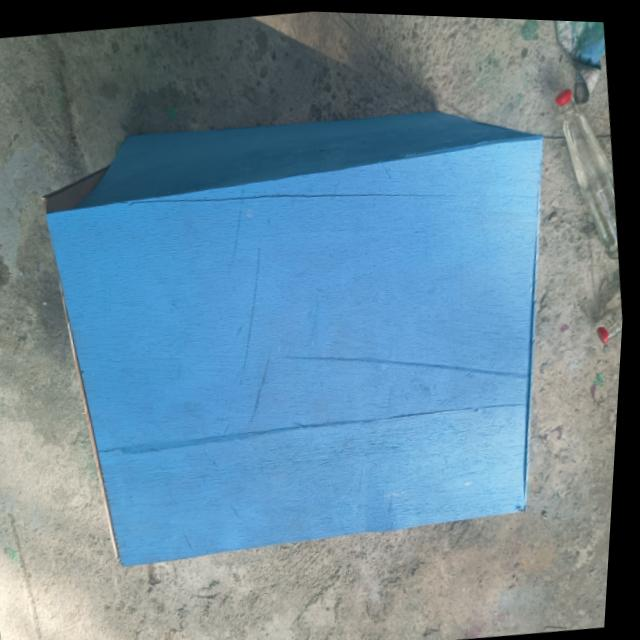blue_box: (22, 70, 598, 587)
